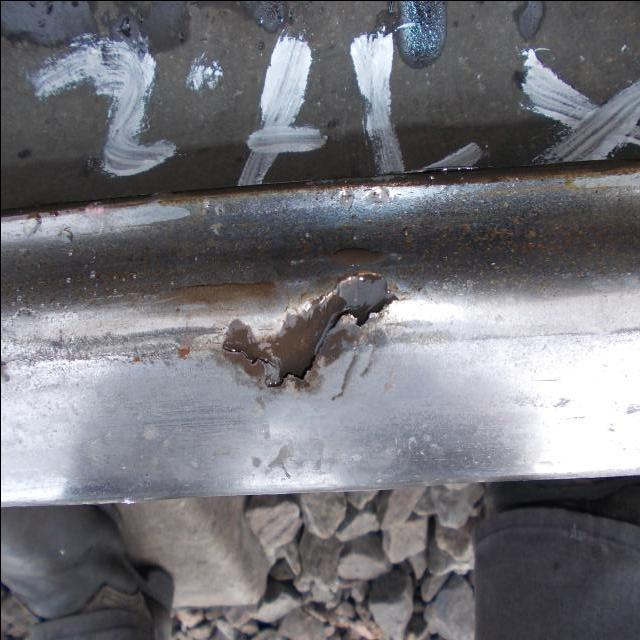broken_rail_medium: (218, 263, 408, 391), (461, 320, 639, 350), (172, 275, 279, 305), (327, 239, 381, 263), (266, 445, 292, 481), (549, 391, 571, 409), (172, 343, 192, 360), (623, 398, 640, 416), (248, 452, 262, 470), (130, 351, 139, 365)
